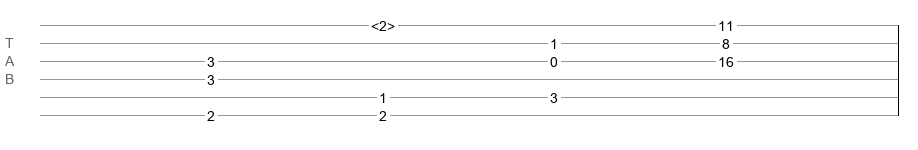0: (550, 54, 558, 64)
1: (379, 90, 387, 100), (550, 36, 558, 46)
11: (718, 18, 734, 28)
16: (718, 54, 734, 64)
2: (207, 108, 215, 118), (379, 108, 387, 118)
3: (207, 54, 215, 64), (207, 72, 215, 82), (550, 90, 558, 100)
8: (722, 36, 730, 46)
harmonic: (371, 18, 395, 28)
